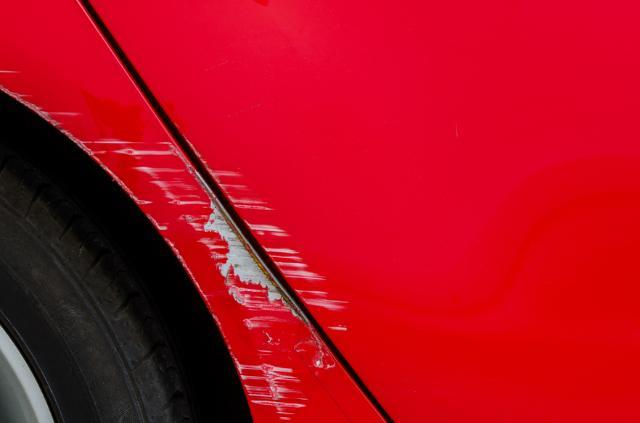Fender: (2, 66, 436, 423)
